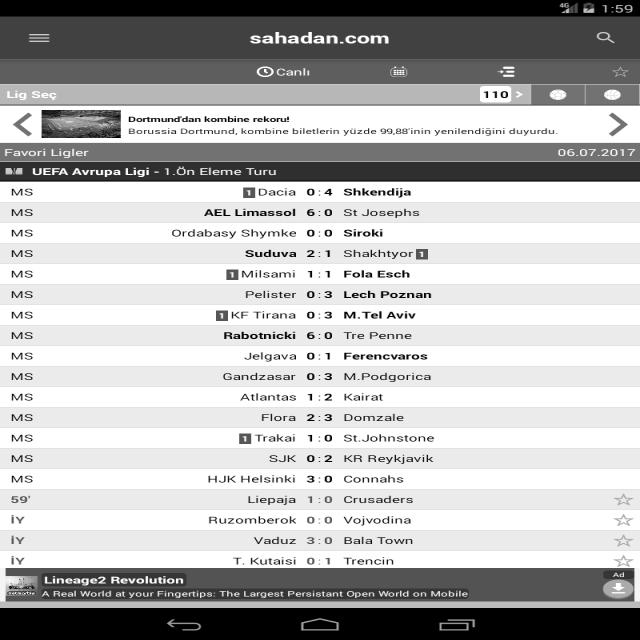ImageButton: (5, 110, 39, 140), (603, 110, 630, 138), (601, 578, 631, 598), (491, 62, 524, 80), (590, 28, 619, 48), (19, 29, 55, 45), (386, 64, 412, 79), (604, 65, 630, 79)
TextView: (8, 181, 37, 565), (126, 114, 566, 136), (45, 589, 475, 599), (245, 28, 394, 48), (48, 574, 182, 586), (206, 472, 297, 486), (221, 328, 299, 344), (547, 144, 635, 158), (339, 408, 407, 424), (340, 266, 414, 280), (339, 513, 411, 527), (338, 186, 414, 198), (275, 64, 318, 80)
